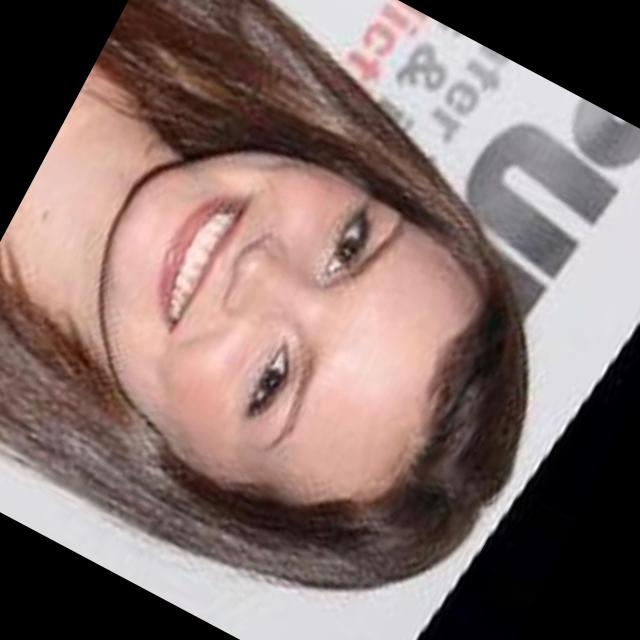bareface: (39, 109, 546, 597)
